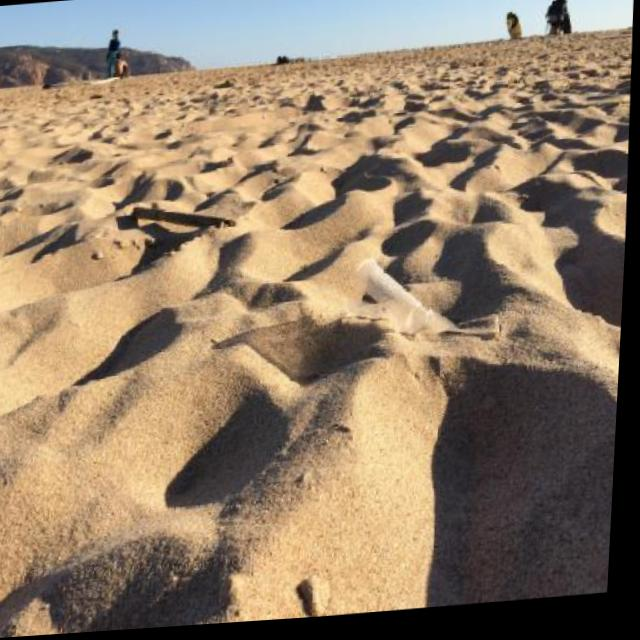plastic: (341, 251, 431, 341)
